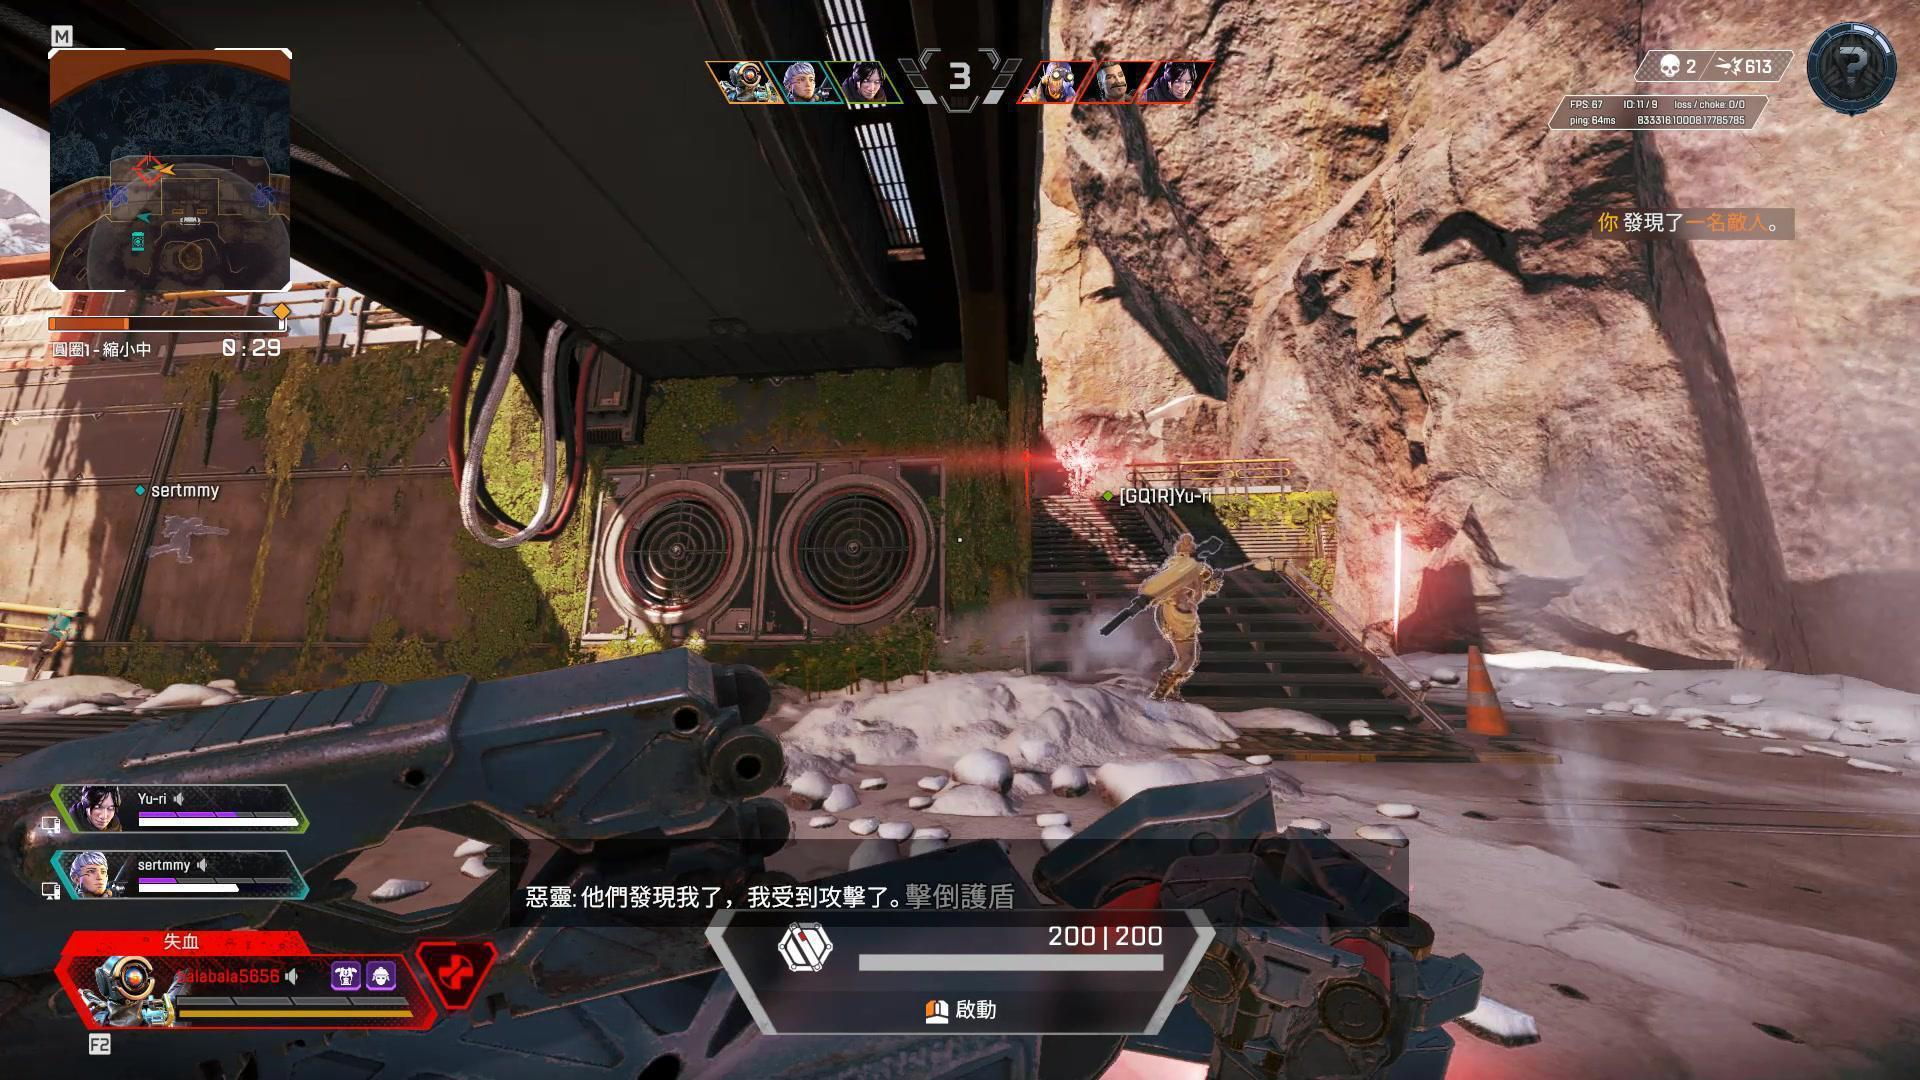avatar: (1149, 528, 1205, 703)
